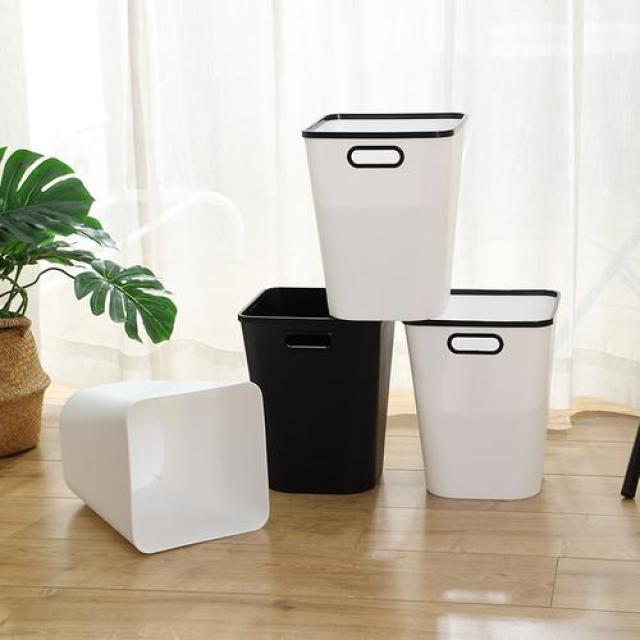dustbin: (55, 375, 273, 557), (300, 104, 469, 324), (398, 282, 562, 505), (237, 280, 400, 502)
